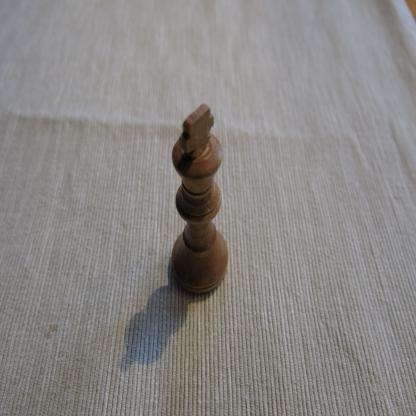white-king: (170, 103, 229, 298)
